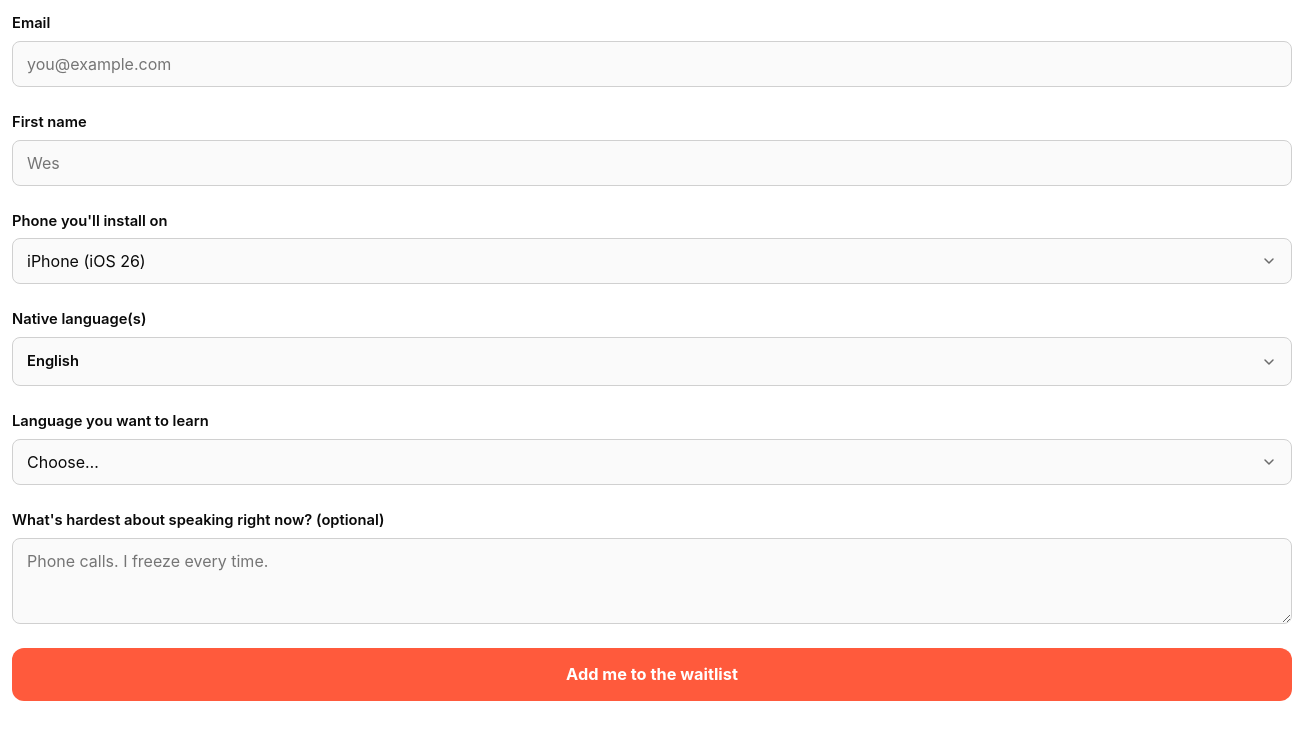
Test case: WaitlistForm › closes the multi-select on overlay tap
Click the button "English" at (53, 361), box [12,337,1292,386]
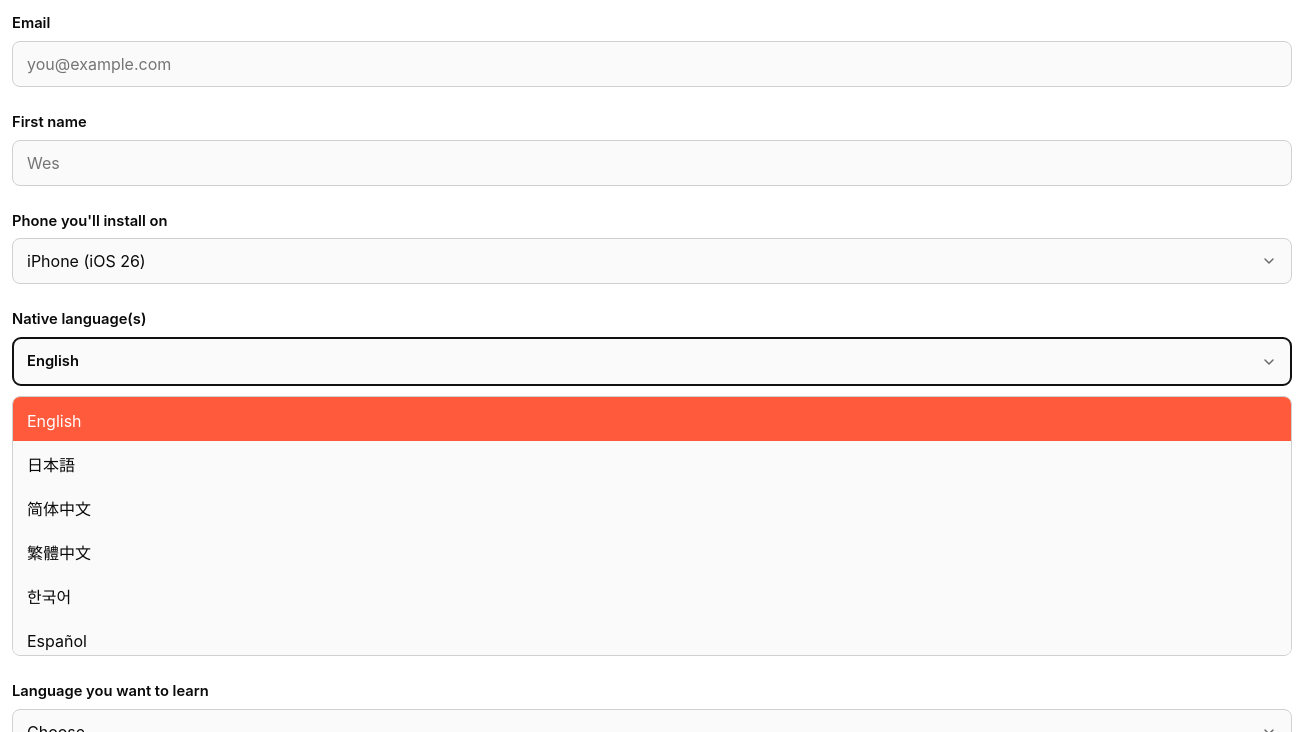
Click the button named "close" at (652, 372), box [12,12,1292,731]
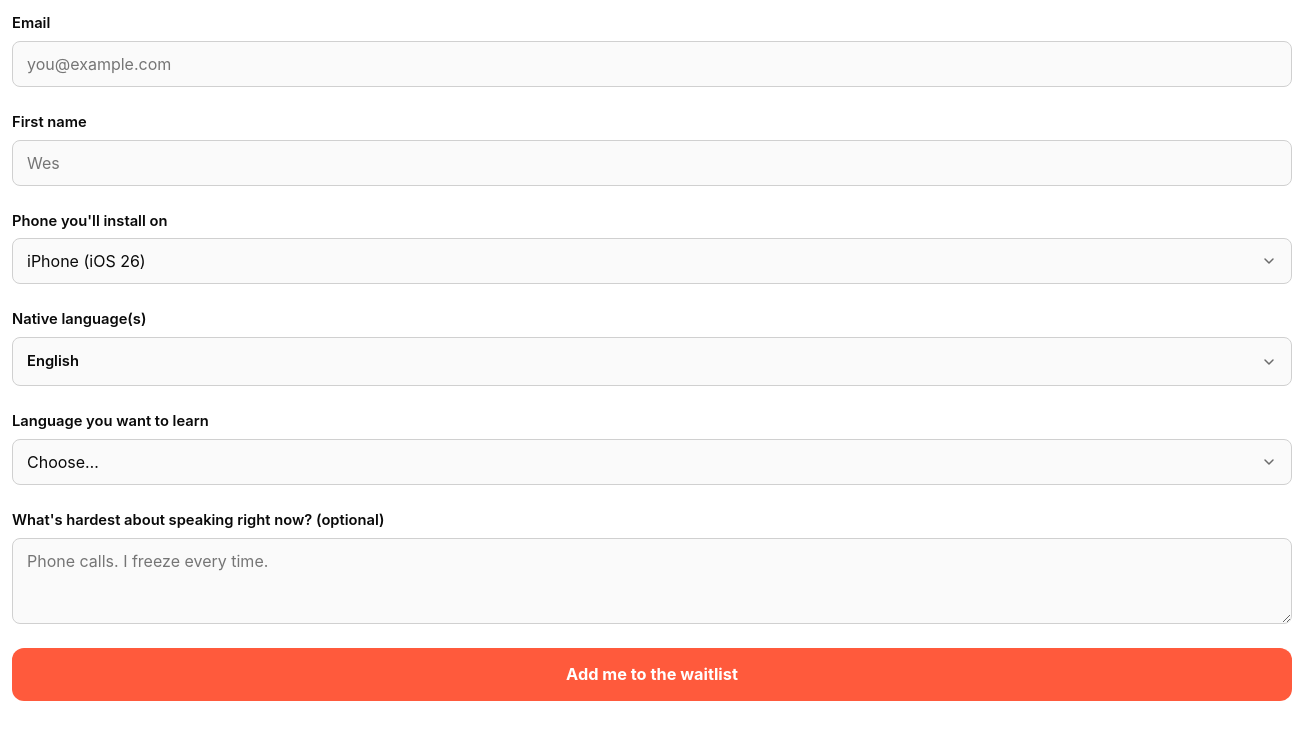
Result: the list is gone
